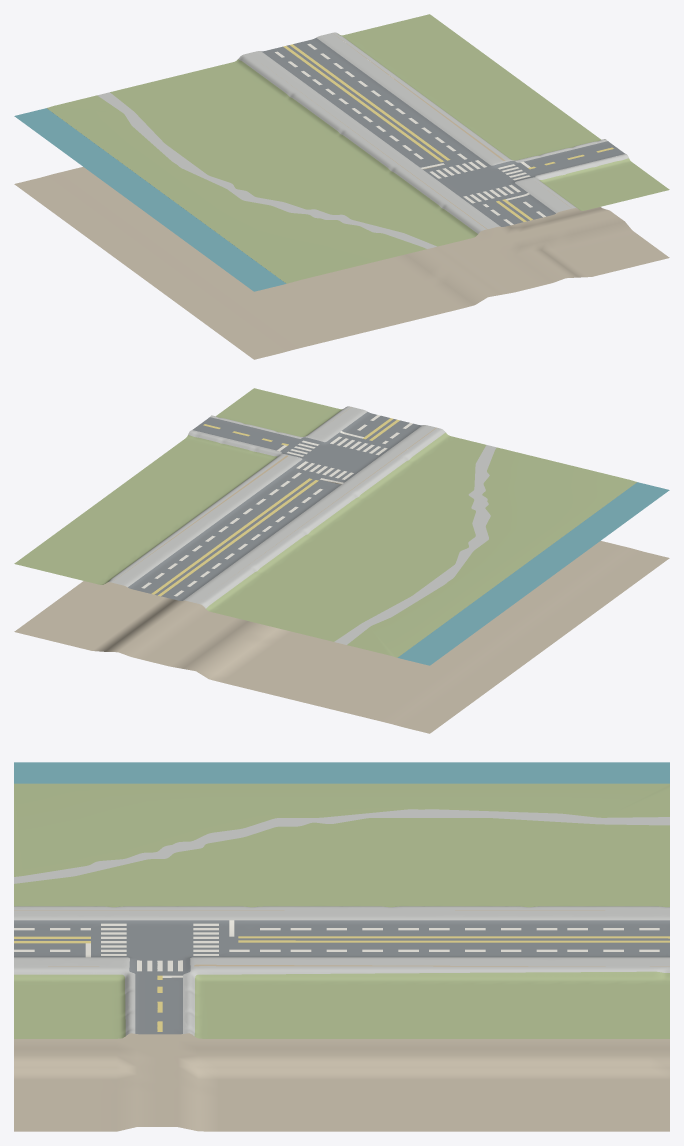
3 renders of one model, top to bottom at view 1: azimuth 30°, elevation 25°; view 2: azimuth 150°, elevation 25°; view 3: azimuth 270°, elevation 25°, orthographic. The views are drawn at different scales.
Parts seen in each view (by area): view 1: s_-12_-5__grass, s_-12_-5__soil, s_-12_-5__stone_paving, s_-12_-5__asphalt, s_-12_-5__water, s_-12_-5__white_marking, s_-12_-5__yellow_marking; view 2: s_-12_-5__grass, s_-12_-5__soil, s_-12_-5__stone_paving, s_-12_-5__asphalt, s_-12_-5__water, s_-12_-5__white_marking, s_-12_-5__yellow_marking; view 3: s_-12_-5__grass, s_-12_-5__soil, s_-12_-5__stone_paving, s_-12_-5__asphalt, s_-12_-5__water, s_-12_-5__white_marking, s_-12_-5__yellow_marking, s_-12_-5__timber_deck.
Part boxes in pixels (x1,y1,x2,y2): s_-12_-5__grass: [47, 14, 669, 283]; s_-12_-5__soil: [14, 165, 669, 359]; s_-12_-5__stone_paving: [97, 32, 628, 248]; s_-12_-5__asphalt: [261, 38, 625, 226]; s_-12_-5__water: [14, 108, 286, 291]; s_-12_-5__white_marking: [275, 43, 545, 225]; s_-12_-5__yellow_marking: [283, 44, 613, 221]; s_-12_-5__grass: [14, 388, 636, 657]; s_-12_-5__soil: [14, 480, 669, 733]; s_-12_-5__stone_paving: [108, 406, 496, 644]; s_-12_-5__asphalt: [128, 412, 422, 600]; s_-12_-5__water: [397, 482, 669, 665]; s_-12_-5__white_marking: [141, 415, 412, 596]; s_-12_-5__yellow_marking: [151, 418, 399, 596]; s_-12_-5__grass: [14, 783, 669, 1038]; s_-12_-5__soil: [14, 1033, 669, 1131]; s_-12_-5__stone_paving: [14, 809, 669, 1035]; s_-12_-5__asphalt: [14, 920, 669, 1034]; s_-12_-5__water: [14, 762, 669, 783]; s_-12_-5__white_marking: [14, 920, 659, 977]; s_-12_-5__yellow_marking: [14, 936, 669, 1031]; s_-12_-5__timber_deck: [14, 910, 669, 966].
Bounding box in the file's own units: 128 × 21.64 × 128.
